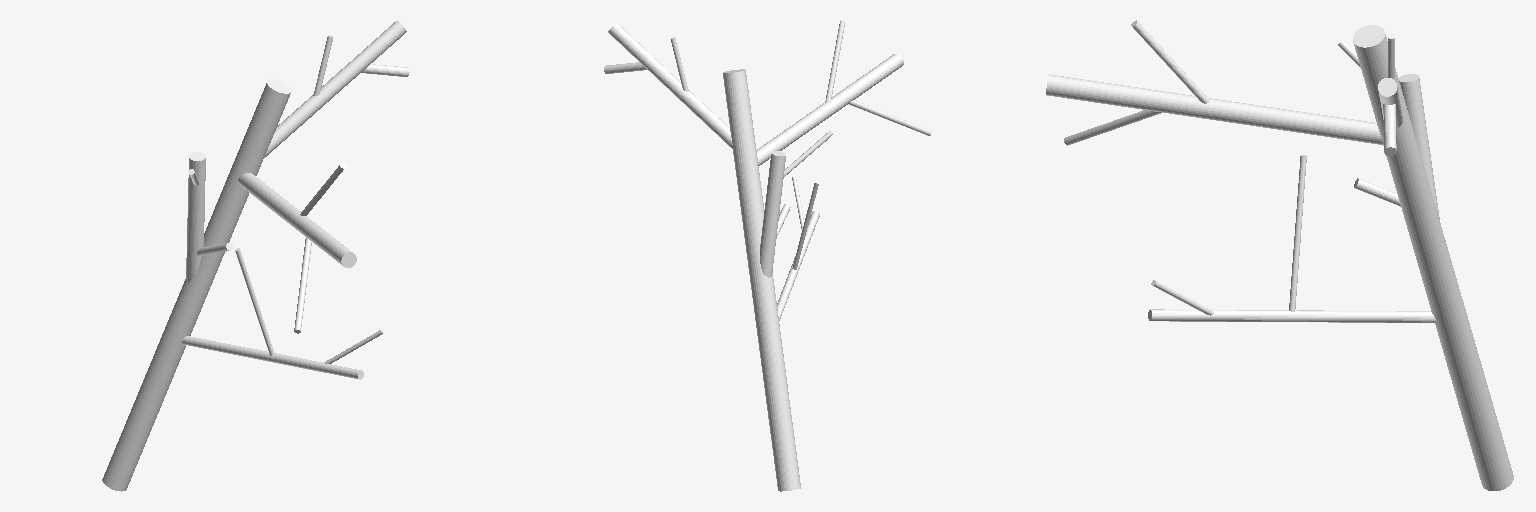
robot.urdf — tree_98.urdf:
<?xml version='1.0' encoding='UTF-8'?>
<robot name="tree_98.urdf">
  <link name="branch_0">
    <inertial>
      <origin xyz="0.0 0.0 0.0" rpy="0.0 -0.0 0.0"/>
      <mass value="1.0"/>
      <inertia ixx="1.0" ixy="0.0" ixz="0.0" iyy="1.0" iyz="0.0" izz="1.0"/>
    </inertial>
    <visual name="branch_0_visual">
      <geometry>
        <cylinder radius="0.22134274690174444" length="8.042075937293383"/>
      </geometry>
      <material name="branch_material"/>
      <origin xyz="1.101407700052054 -0.8570538162379403 3.7710881956852105" rpy="-4.3810073454778595e-17 0.3544443303227635 -0.6612713259155208"/>
    </visual>
    <collision name="branch_0_collision">
      <geometry>
        <cylinder radius="0.22134274690174444" length="8.042075937293383"/>
      </geometry>
      <origin xyz="1.101407700052054 -0.8570538162379403 3.7710881956852105" rpy="-4.3810073454778595e-17 0.3544443303227635 -0.6612713259155208"/>
    </collision>
  </link>
  <link name="branch_1">
    <inertial>
      <origin xyz="0.0 0.0 0.0" rpy="0.0 -0.0 0.0"/>
      <mass value="1.0"/>
      <inertia ixx="1.0" ixy="0.0" ixz="0.0" iyy="1.0" iyz="0.0" izz="1.0"/>
    </inertial>
    <visual name="branch_1_visual">
      <geometry>
        <cylinder radius="0.07968203266985474" length="4.244795079110609"/>
      </geometry>
      <material name="branch_material"/>
      <origin xyz="0.0 0.0 0.0" rpy="0.0 -0.0 0.0"/>
    </visual>
    <collision name="branch_1_collision">
      <geometry>
        <cylinder radius="0.07968203266985474" length="4.244795079110609"/>
      </geometry>
      <origin xyz="0.0 0.0 0.0" rpy="0.0 -0.0 0.0"/>
    </collision>
  </link>
  <link name="branch_2">
    <inertial>
      <origin xyz="0.0 0.0 0.0" rpy="0.0 -0.0 0.0"/>
      <mass value="1.0"/>
      <inertia ixx="1.0" ixy="0.0" ixz="0.0" iyy="1.0" iyz="0.0" izz="1.0"/>
    </inertial>
    <visual name="branch_2_visual">
      <geometry>
        <cylinder radius="0.04308004144006662" length="2.168143634425918"/>
      </geometry>
      <material name="branch_material"/>
      <origin xyz="0.0 0.0 0.0" rpy="0.0 -0.0 0.0"/>
    </visual>
    <collision name="branch_2_collision">
      <geometry>
        <cylinder radius="0.04308004144006662" length="2.168143634425918"/>
      </geometry>
      <origin xyz="0.0 0.0 0.0" rpy="0.0 -0.0 0.0"/>
    </collision>
  </link>
  <link name="branch_3">
    <inertial>
      <origin xyz="0.0 0.0 0.0" rpy="0.0 -0.0 0.0"/>
      <mass value="1.0"/>
      <inertia ixx="1.0" ixy="0.0" ixz="0.0" iyy="1.0" iyz="0.0" izz="1.0"/>
    </inertial>
    <visual name="branch_3_visual">
      <geometry>
        <cylinder radius="0.04" length="1.3662597130570657"/>
      </geometry>
      <material name="branch_material"/>
      <origin xyz="0.0 0.0 0.0" rpy="0.0 -0.0 0.0"/>
    </visual>
    <collision name="branch_3_collision">
      <geometry>
        <cylinder radius="0.04" length="1.3662597130570657"/>
      </geometry>
      <origin xyz="0.0 0.0 0.0" rpy="0.0 -0.0 0.0"/>
    </collision>
  </link>
  <link name="branch_4">
    <inertial>
      <origin xyz="0.0 0.0 0.0" rpy="0.0 -0.0 0.0"/>
      <mass value="1.0"/>
      <inertia ixx="1.0" ixy="0.0" ixz="0.0" iyy="1.0" iyz="0.0" izz="1.0"/>
    </inertial>
    <visual name="branch_4_visual">
      <geometry>
        <cylinder radius="0.14104972555415388" length="4.724774853734382"/>
      </geometry>
      <material name="branch_material"/>
      <origin xyz="0.0 0.0 0.0" rpy="0.0 -0.0 0.0"/>
    </visual>
    <collision name="branch_4_collision">
      <geometry>
        <cylinder radius="0.14104972555415388" length="4.724774853734382"/>
      </geometry>
      <origin xyz="0.0 0.0 0.0" rpy="0.0 -0.0 0.0"/>
    </collision>
  </link>
  <link name="branch_5">
    <inertial>
      <origin xyz="0.0 0.0 0.0" rpy="0.0 -0.0 0.0"/>
      <mass value="1.0"/>
      <inertia ixx="1.0" ixy="0.0" ixz="0.0" iyy="1.0" iyz="0.0" izz="1.0"/>
    </inertial>
    <visual name="branch_5_visual">
      <geometry>
        <cylinder radius="0.05700240914829491" length="2.0879560945764797"/>
      </geometry>
      <material name="branch_material"/>
      <origin xyz="0.0 0.0 0.0" rpy="0.0 -0.0 0.0"/>
    </visual>
    <collision name="branch_5_collision">
      <geometry>
        <cylinder radius="0.05700240914829491" length="2.0879560945764797"/>
      </geometry>
      <origin xyz="0.0 0.0 0.0" rpy="0.0 -0.0 0.0"/>
    </collision>
  </link>
  <link name="branch_6">
    <inertial>
      <origin xyz="0.0 0.0 0.0" rpy="0.0 -0.0 0.0"/>
      <mass value="1.0"/>
      <inertia ixx="1.0" ixy="0.0" ixz="0.0" iyy="1.0" iyz="0.0" izz="1.0"/>
    </inertial>
    <visual name="branch_6_visual">
      <geometry>
        <cylinder radius="0.05317564594395879" length="1.7476131017733367"/>
      </geometry>
      <material name="branch_material"/>
      <origin xyz="0.0 0.0 0.0" rpy="0.0 -0.0 0.0"/>
    </visual>
    <collision name="branch_6_collision">
      <geometry>
        <cylinder radius="0.05317564594395879" length="1.7476131017733367"/>
      </geometry>
      <origin xyz="0.0 0.0 0.0" rpy="0.0 -0.0 0.0"/>
    </collision>
  </link>
  <link name="branch_7">
    <inertial>
      <origin xyz="0.0 0.0 0.0" rpy="0.0 -0.0 0.0"/>
      <mass value="1.0"/>
      <inertia ixx="1.0" ixy="0.0" ixz="0.0" iyy="1.0" iyz="0.0" izz="1.0"/>
    </inertial>
    <visual name="branch_7_visual">
      <geometry>
        <cylinder radius="0.14371534861184082" length="2.7191291014420425"/>
      </geometry>
      <material name="branch_material"/>
      <origin xyz="0.0 0.0 0.0" rpy="0.0 -0.0 0.0"/>
    </visual>
    <collision name="branch_7_collision">
      <geometry>
        <cylinder radius="0.14371534861184082" length="2.7191291014420425"/>
      </geometry>
      <origin xyz="0.0 0.0 0.0" rpy="0.0 -0.0 0.0"/>
    </collision>
  </link>
  <link name="branch_8">
    <inertial>
      <origin xyz="0.0 0.0 0.0" rpy="0.0 -0.0 0.0"/>
      <mass value="1.0"/>
      <inertia ixx="1.0" ixy="0.0" ixz="0.0" iyy="1.0" iyz="0.0" izz="1.0"/>
    </inertial>
    <visual name="branch_8_visual">
      <geometry>
        <cylinder radius="0.051208847548369255" length="1.414764286855857"/>
      </geometry>
      <material name="branch_material"/>
      <origin xyz="0.0 0.0 0.0" rpy="0.0 -0.0 0.0"/>
    </visual>
    <collision name="branch_8_collision">
      <geometry>
        <cylinder radius="0.051208847548369255" length="1.414764286855857"/>
      </geometry>
      <origin xyz="0.0 0.0 0.0" rpy="0.0 -0.0 0.0"/>
    </collision>
  </link>
  <link name="branch_9">
    <inertial>
      <origin xyz="0.0 0.0 0.0" rpy="0.0 -0.0 0.0"/>
      <mass value="1.0"/>
      <inertia ixx="1.0" ixy="0.0" ixz="0.0" iyy="1.0" iyz="0.0" izz="1.0"/>
    </inertial>
    <visual name="branch_9_visual">
      <geometry>
        <cylinder radius="0.07125739279899504" length="1.0705936016114872"/>
      </geometry>
      <material name="branch_material"/>
      <origin xyz="0.0 0.0 0.0" rpy="0.0 -0.0 0.0"/>
    </visual>
    <collision name="branch_9_collision">
      <geometry>
        <cylinder radius="0.07125739279899504" length="1.0705936016114872"/>
      </geometry>
      <origin xyz="0.0 0.0 0.0" rpy="0.0 -0.0 0.0"/>
    </collision>
  </link>
  <link name="branch_10">
    <inertial>
      <origin xyz="0.0 0.0 0.0" rpy="0.0 -0.0 0.0"/>
      <mass value="1.0"/>
      <inertia ixx="1.0" ixy="0.0" ixz="0.0" iyy="1.0" iyz="0.0" izz="1.0"/>
    </inertial>
    <visual name="branch_10_visual">
      <geometry>
        <cylinder radius="0.12911254784047818" length="3.4846941697903424"/>
      </geometry>
      <material name="branch_material"/>
      <origin xyz="0.0 0.0 0.0" rpy="0.0 -0.0 0.0"/>
    </visual>
    <collision name="branch_10_collision">
      <geometry>
        <cylinder radius="0.12911254784047818" length="3.4846941697903424"/>
      </geometry>
      <origin xyz="0.0 0.0 0.0" rpy="0.0 -0.0 0.0"/>
    </collision>
  </link>
  <link name="branch_11">
    <inertial>
      <origin xyz="0.0 0.0 0.0" rpy="0.0 -0.0 0.0"/>
      <mass value="1.0"/>
      <inertia ixx="1.0" ixy="0.0" ixz="0.0" iyy="1.0" iyz="0.0" izz="1.0"/>
    </inertial>
    <visual name="branch_11_visual">
      <geometry>
        <cylinder radius="0.08317711986962624" length="1.0567901451614636"/>
      </geometry>
      <material name="branch_material"/>
      <origin xyz="0.0 0.0 0.0" rpy="0.0 -0.0 0.0"/>
    </visual>
    <collision name="branch_11_collision">
      <geometry>
        <cylinder radius="0.08317711986962624" length="1.0567901451614636"/>
      </geometry>
      <origin xyz="0.0 0.0 0.0" rpy="0.0 -0.0 0.0"/>
    </collision>
  </link>
  <link name="branch_12">
    <inertial>
      <origin xyz="0.0 0.0 0.0" rpy="0.0 -0.0 0.0"/>
      <mass value="1.0"/>
      <inertia ixx="1.0" ixy="0.0" ixz="0.0" iyy="1.0" iyz="0.0" izz="1.0"/>
    </inertial>
    <visual name="branch_12_visual">
      <geometry>
        <cylinder radius="0.04990470950335741" length="1.2178058596115757"/>
      </geometry>
      <material name="branch_material"/>
      <origin xyz="0.0 0.0 0.0" rpy="0.0 -0.0 0.0"/>
    </visual>
    <collision name="branch_12_collision">
      <geometry>
        <cylinder radius="0.04990470950335741" length="1.2178058596115757"/>
      </geometry>
      <origin xyz="0.0 0.0 0.0" rpy="0.0 -0.0 0.0"/>
    </collision>
  </link>
  <joint name="joint_0_1" type="fixed">
    <parent link="branch_0"/>
    <child link="branch_1"/>
    <axis xyz="1. 0. 0."/>
    <origin xyz="1.4532629976315647 -2.6266902256866542 3.082922617169871" rpy="-0.9630448871655874 1.3083037800366655 -2.2378830450700926"/>
  </joint>
  <joint name="joint_0_4" type="fixed">
    <parent link="branch_0"/>
    <child link="branch_4"/>
    <axis xyz="1. 0. 0."/>
    <origin xyz="1.3946000964931708 -3.6563158075488933 6.072021589522744" rpy="-1.2581570798979413 1.2395667997551059 -2.977134562966921"/>
  </joint>
  <joint name="joint_0_7" type="fixed">
    <parent link="branch_0"/>
    <child link="branch_7"/>
    <axis xyz="1. 0. 0."/>
    <origin xyz="0.9916920739431264 -1.0059140094268708 4.983602453727348" rpy="-0.14134298685060429 0.0153368860462913 2.8727513128162587"/>
  </joint>
  <joint name="joint_0_10" type="fixed">
    <parent link="branch_0"/>
    <child link="branch_10"/>
    <axis xyz="1. 0. 0."/>
    <origin xyz="3.2479477892273065 -1.4247754377492923 7.030700804761553" rpy="0.4468957135562938 0.9316670315889439 0.5110960907215819"/>
  </joint>
  <joint name="joint_1_2" type="fixed">
    <parent link="branch_0"/>
    <child link="branch_2"/>
    <axis xyz="1. 0. 0."/>
    <origin xyz="1.1892737270536717 -2.6606315629581854 4.139295687583266" rpy="-0.2442400488643431 0.16040372285931911 1.8800480326290172"/>
  </joint>
  <joint name="joint_1_3" type="fixed">
    <parent link="branch_0"/>
    <child link="branch_3"/>
    <axis xyz="1. 0. 0."/>
    <origin xyz="2.182445259740384 -4.168501784230659 3.671316175150977" rpy="0.7398274637390388 -0.6224534987848088 1.2956939277358654"/>
  </joint>
  <joint name="joint_4_5" type="fixed">
    <parent link="branch_0"/>
    <child link="branch_5"/>
    <axis xyz="1. 0. 0."/>
    <origin xyz="0.7723029139848018 -5.006652340043352 5.608445493114886" rpy="-2.2827414950434606 0.6871011906982928 1.9998461075010008"/>
  </joint>
  <joint name="joint_4_6" type="fixed">
    <parent link="branch_0"/>
    <child link="branch_6"/>
    <axis xyz="1. 0. 0."/>
    <origin xyz="1.5029325832189495 -4.312113694869568 6.7741317998608555" rpy="0.35313789320844297 -0.5736693340480652 1.2106486705187927"/>
  </joint>
  <joint name="joint_7_8" type="fixed">
    <parent link="branch_0"/>
    <child link="branch_8"/>
    <axis xyz="1. 0. 0."/>
    <origin xyz="0.6178914045791367 -1.5992493144512745 6.166649212217166" rpy="-0.06269835358454157 0.9853798566316803 -2.243735887066337"/>
  </joint>
  <joint name="joint_7_9" type="fixed">
    <parent link="branch_0"/>
    <child link="branch_9"/>
    <axis xyz="1. 0. 0."/>
    <origin xyz="1.0814920000569004 -1.406354572760878 4.653440699796156" rpy="0.16338792302616767 1.1045532107052871 -1.263002745633741"/>
  </joint>
  <joint name="joint_10_11" type="fixed">
    <parent link="branch_0"/>
    <child link="branch_11"/>
    <axis xyz="1. 0. 0."/>
    <origin xyz="4.331382978880155 -1.4345837990357573 7.237690261021975" rpy="3.0118074445496155 1.2524587722813532 3.0169528261654253"/>
  </joint>
  <joint name="joint_10_12" type="fixed">
    <parent link="branch_0"/>
    <child link="branch_12"/>
    <axis xyz="1. 0. 0."/>
    <origin xyz="3.210040909340474 -1.4165503409305198 7.492400595287917" rpy="0.015328875062849946 -0.2645047279983852 3.100963368006579"/>
  </joint>
  <material name="branch_material">
    <color rgba="1. 1. 1. 1."/>
  </material>
</robot>

--- Facts derived from the render (not from the file) ---
Views: 3 orthographic renders of the robot side by side, from view 1: azimuth 30°, elevation 25°; view 2: azimuth 150°, elevation 25°; view 3: azimuth 270°, elevation 25°.
Robot: tree_98.urdf — 13 links, 12 joints (12 fixed); root link branch_0; default pose: all joints at 0.
Visible links, largest first — view 1: branch_0, branch_10, branch_4, branch_7, branch_1, branch_5, branch_2; view 2: branch_0, branch_4, branch_10, branch_7, branch_1; view 3: branch_0, branch_4, branch_1, branch_7, branch_2, branch_6, branch_5, branch_10, branch_11.
Link boxes in pixels (x1,y1,x2,y2): branch_0: (102,79,291,491); branch_10: (264,21,406,157); branch_4: (238,173,356,267); branch_7: (186,152,205,281); branch_1: (182,336,363,379); branch_5: (294,237,311,333); branch_2: (235,248,273,355); branch_0: (723,69,800,491); branch_4: (757,54,903,165); branch_10: (608,23,732,148); branch_7: (760,151,785,277); branch_1: (777,211,819,320); branch_0: (1353,25,1513,490); branch_4: (1046,74,1383,144); branch_1: (1148,309,1435,322); branch_7: (1398,74,1439,219); branch_2: (1289,155,1306,311); branch_6: (1131,20,1209,103); branch_5: (1064,110,1161,145); branch_10: (1378,78,1402,128); branch_11: (1383,104,1396,155).
Size in the robot's own frame: 5.07 by 6.23 by 8.17 metres.
Geometry: primitives only (box / cylinder / sphere), no mesh files.